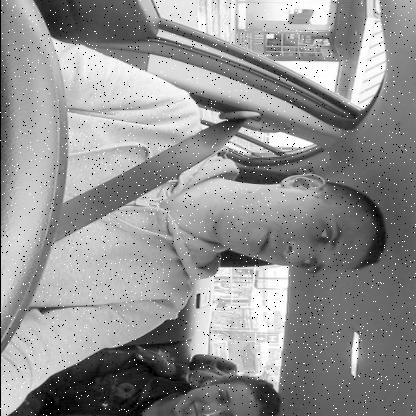seatbelt: (64, 129, 394, 283)
